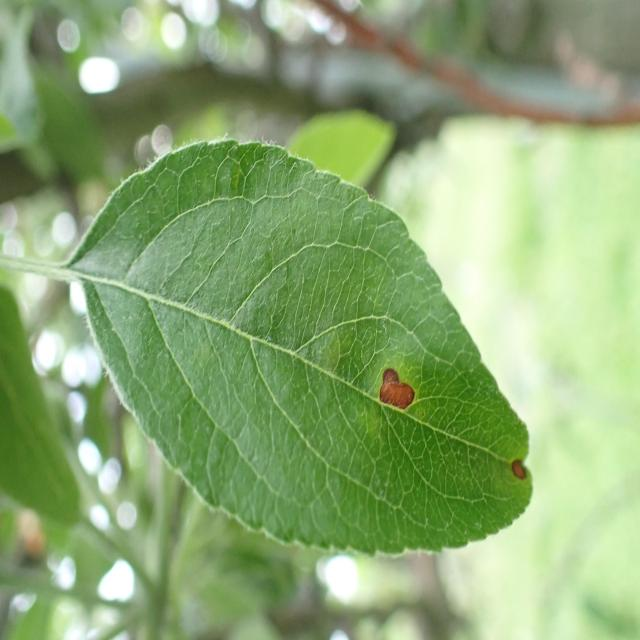Black Rot: (373, 331, 423, 442), (501, 425, 543, 517)
